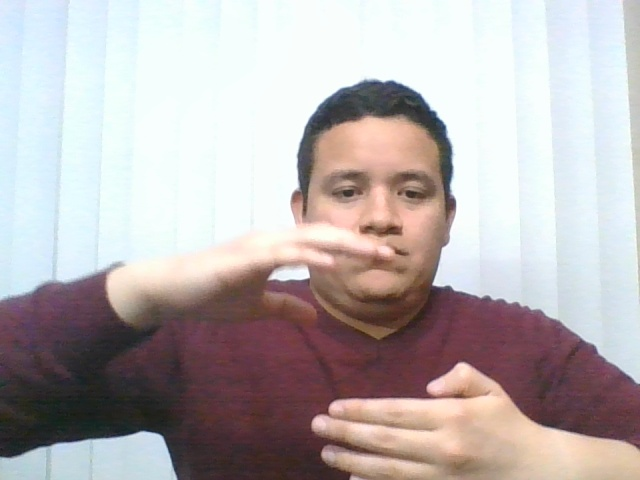To Study: (71, 206, 556, 478)
